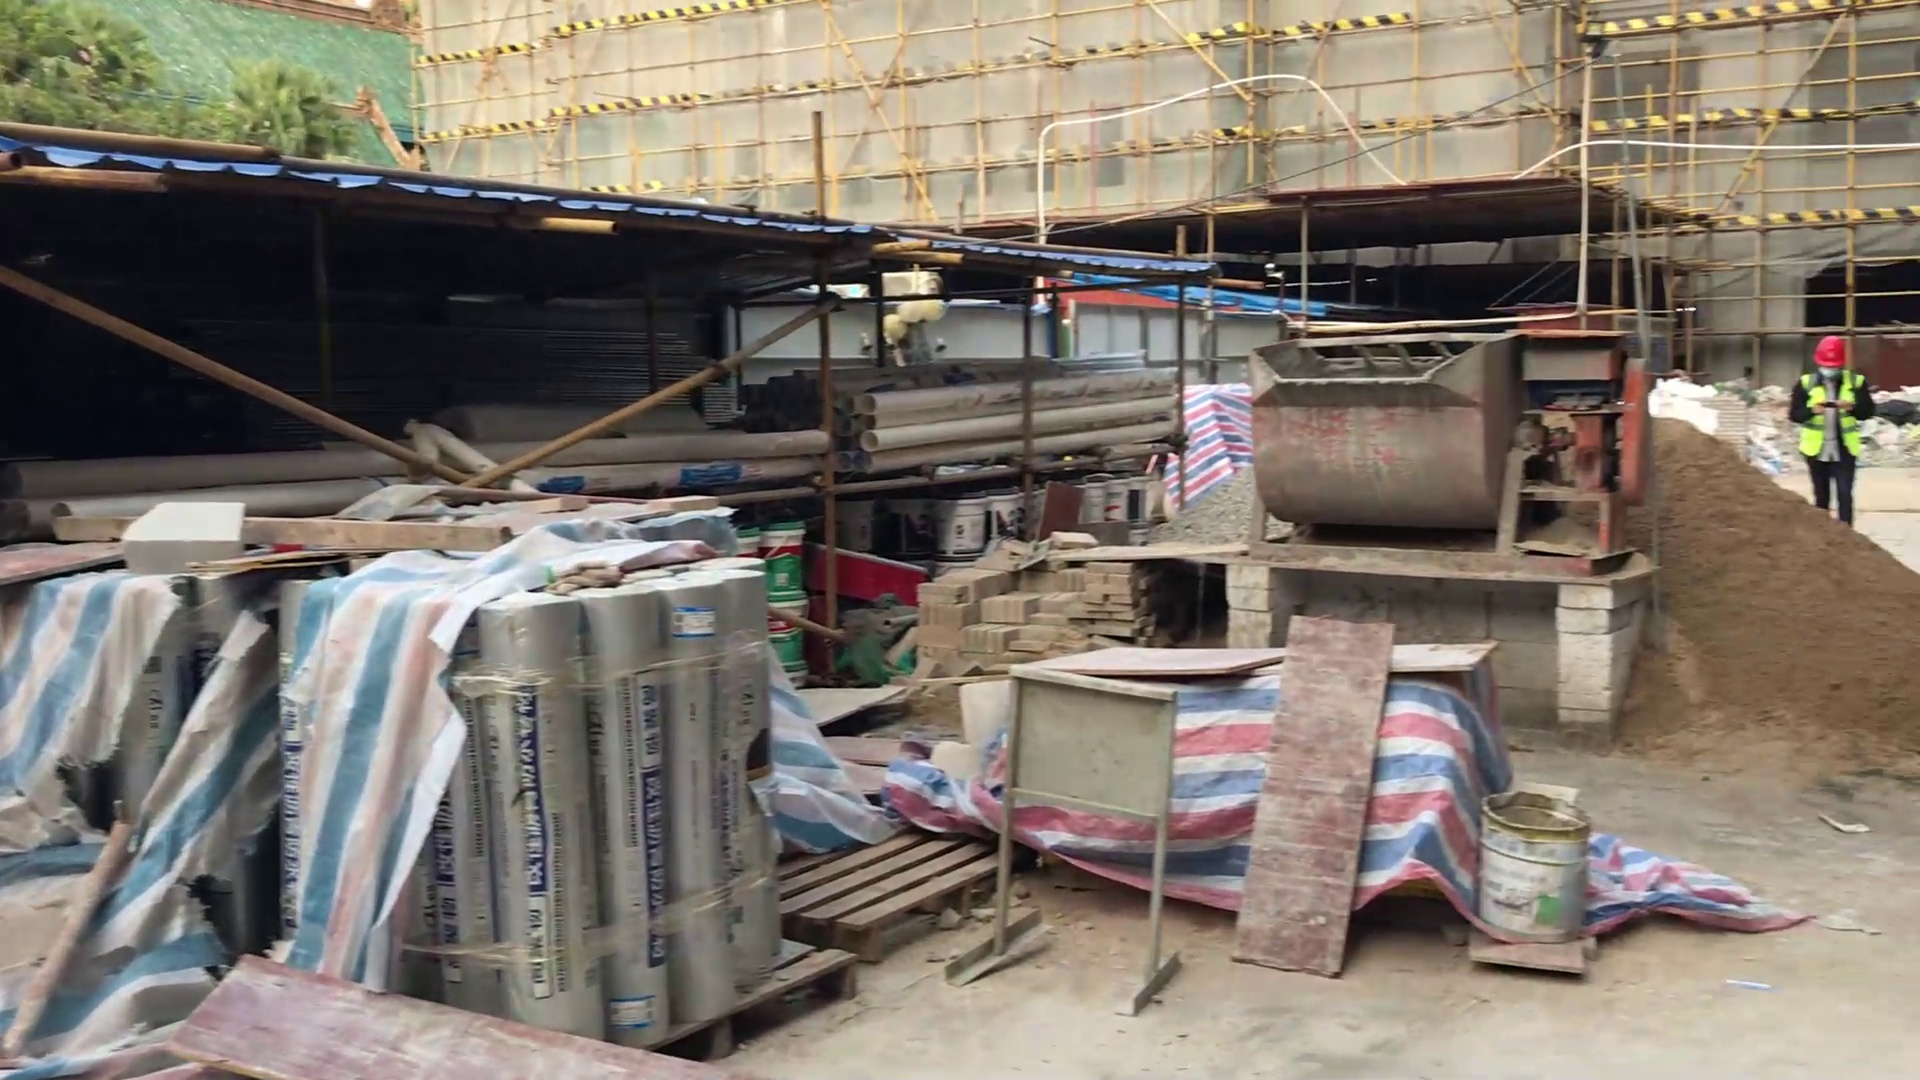helmet: (1804, 323, 1854, 376)
person: (1789, 335, 1877, 539)
vest: (1797, 375, 1875, 464)
